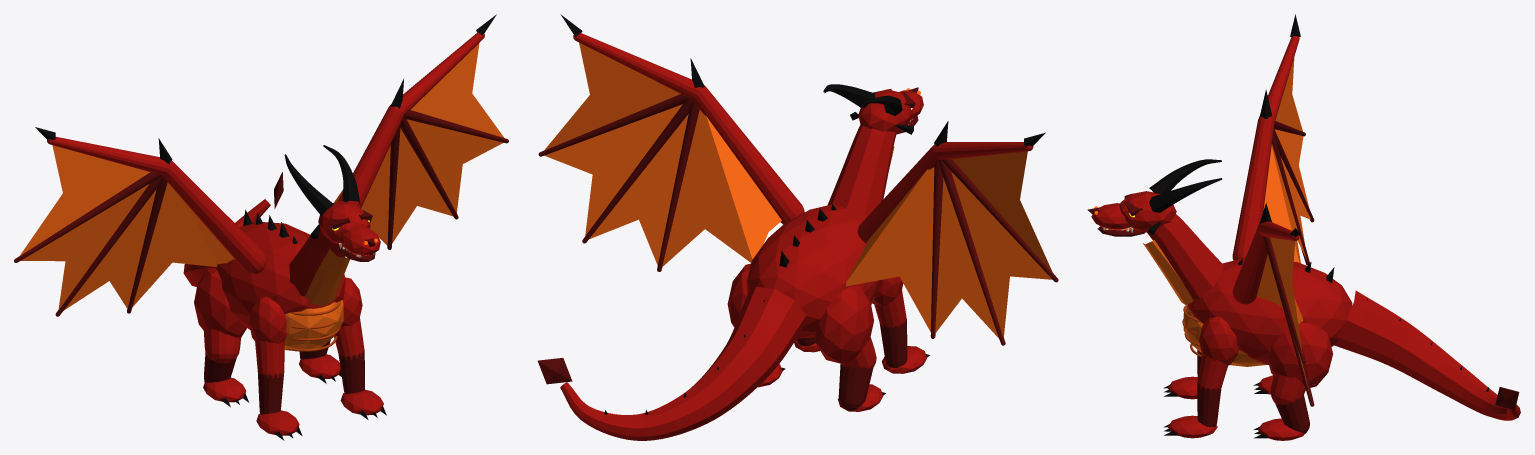
Rendered from ashking.glb.
3 views of the same model, side by side, from view 1: azimuth 30°, elevation 25°; view 2: azimuth 150°, elevation 25°; view 3: azimuth 270°, elevation 25° (orthographic). The views are drawn at different scales.
Visible parts, largest first — view 1: wing_-1_membrane, wing_1_membrane, body, wing_-1_arm, leg_-1_-1, wing_1_arm, body_belly, wing_-1_forearm, neck, wing_1_forearm, leg_-1_1, neck_front (+22 smaller); view 2: wing_1_membrane, wing_-1_membrane, tail, body, neck, wing_1_arm, leg_-1_-1, wing_1_forearm, wing_-1_arm, wing_-1_finger1, wing_1_finger1, wing_-1_forearm (+14 smaller); view 3: tail, body, wing_-1_membrane, neck, wing_-1_arm, leg_1_-1, wing_1_membrane, wing_1_arm, leg_1_1, head, wing_-1_forearm, neck_front (+16 smaller).
Boxes of the visible parts, x1,y1,x2,y2 form: wing_-1_membrane: [19, 145, 234, 310]; wing_1_membrane: [334, 43, 503, 245]; body: [212, 222, 345, 329]; wing_-1_arm: [163, 161, 267, 274]; leg_-1_-1: [194, 267, 246, 337]; wing_1_arm: [337, 105, 403, 208]; body_belly: [284, 300, 343, 350]; wing_-1_forearm: [47, 137, 173, 175]; neck: [289, 228, 345, 296]; wing_1_forearm: [388, 32, 484, 115]; leg_-1_1: [249, 296, 286, 343]; neck_front: [305, 248, 349, 305]; wing_1_membrane: [544, 42, 781, 266]; wing_-1_membrane: [846, 151, 1053, 338]; tail: [560, 287, 806, 440]; body: [747, 204, 882, 338]; neck: [827, 124, 896, 216]; wing_1_arm: [693, 87, 804, 224]; leg_-1_-1: [814, 287, 873, 363]; wing_1_forearm: [573, 33, 706, 99]; wing_-1_arm: [857, 144, 938, 243]; wing_-1_finger1: [938, 159, 1005, 345]; wing_1_finger1: [582, 98, 693, 243]; wing_-1_forearm: [932, 142, 1033, 159]; tail: [1334, 290, 1520, 420]; body: [1188, 258, 1352, 364]; wing_-1_membrane: [1263, 57, 1310, 263]; neck: [1147, 214, 1224, 300]; wing_-1_arm: [1232, 117, 1274, 260]; leg_1_-1: [1267, 323, 1332, 387]; wing_1_membrane: [1257, 237, 1309, 392]; wing_1_arm: [1232, 225, 1267, 304]; leg_1_1: [1199, 316, 1238, 365]; head: [1119, 191, 1176, 232]; wing_-1_forearm: [1258, 36, 1299, 123]; neck_front: [1143, 240, 1193, 304].
Size of the model in its own units: 12.9 by 7.76 by 10.34.
